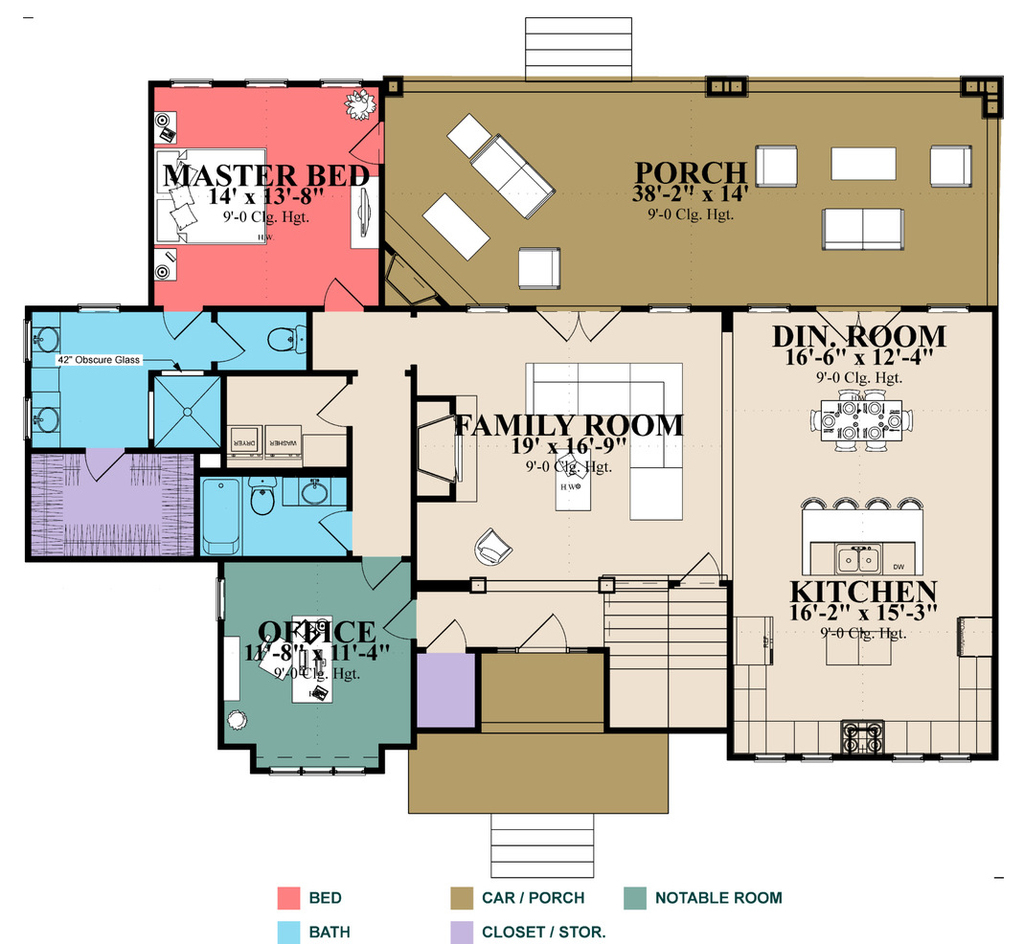bed: (155, 143, 278, 250)
dining_table: (789, 388, 929, 459)
door: (528, 296, 639, 340), (811, 302, 903, 349), (312, 502, 366, 560), (309, 375, 359, 435), (515, 608, 573, 652), (423, 620, 482, 660), (356, 549, 405, 595), (343, 119, 388, 169), (668, 550, 725, 589), (82, 442, 131, 486), (318, 272, 363, 318), (378, 596, 419, 646), (158, 303, 206, 342), (213, 322, 243, 366)
kitchen_bar: (798, 488, 942, 593)
large_sink: (261, 313, 322, 366), (245, 473, 283, 518)
small_sink: (26, 308, 72, 458), (281, 473, 355, 508)
small_sofa: (463, 130, 562, 222), (818, 203, 922, 250), (745, 133, 806, 192), (922, 143, 983, 188), (523, 239, 569, 295)
stairs: (593, 565, 739, 726), (513, 10, 639, 82), (489, 812, 613, 883)
tub: (196, 473, 251, 565)
window: (742, 298, 799, 319), (463, 298, 515, 320), (648, 300, 685, 319)
